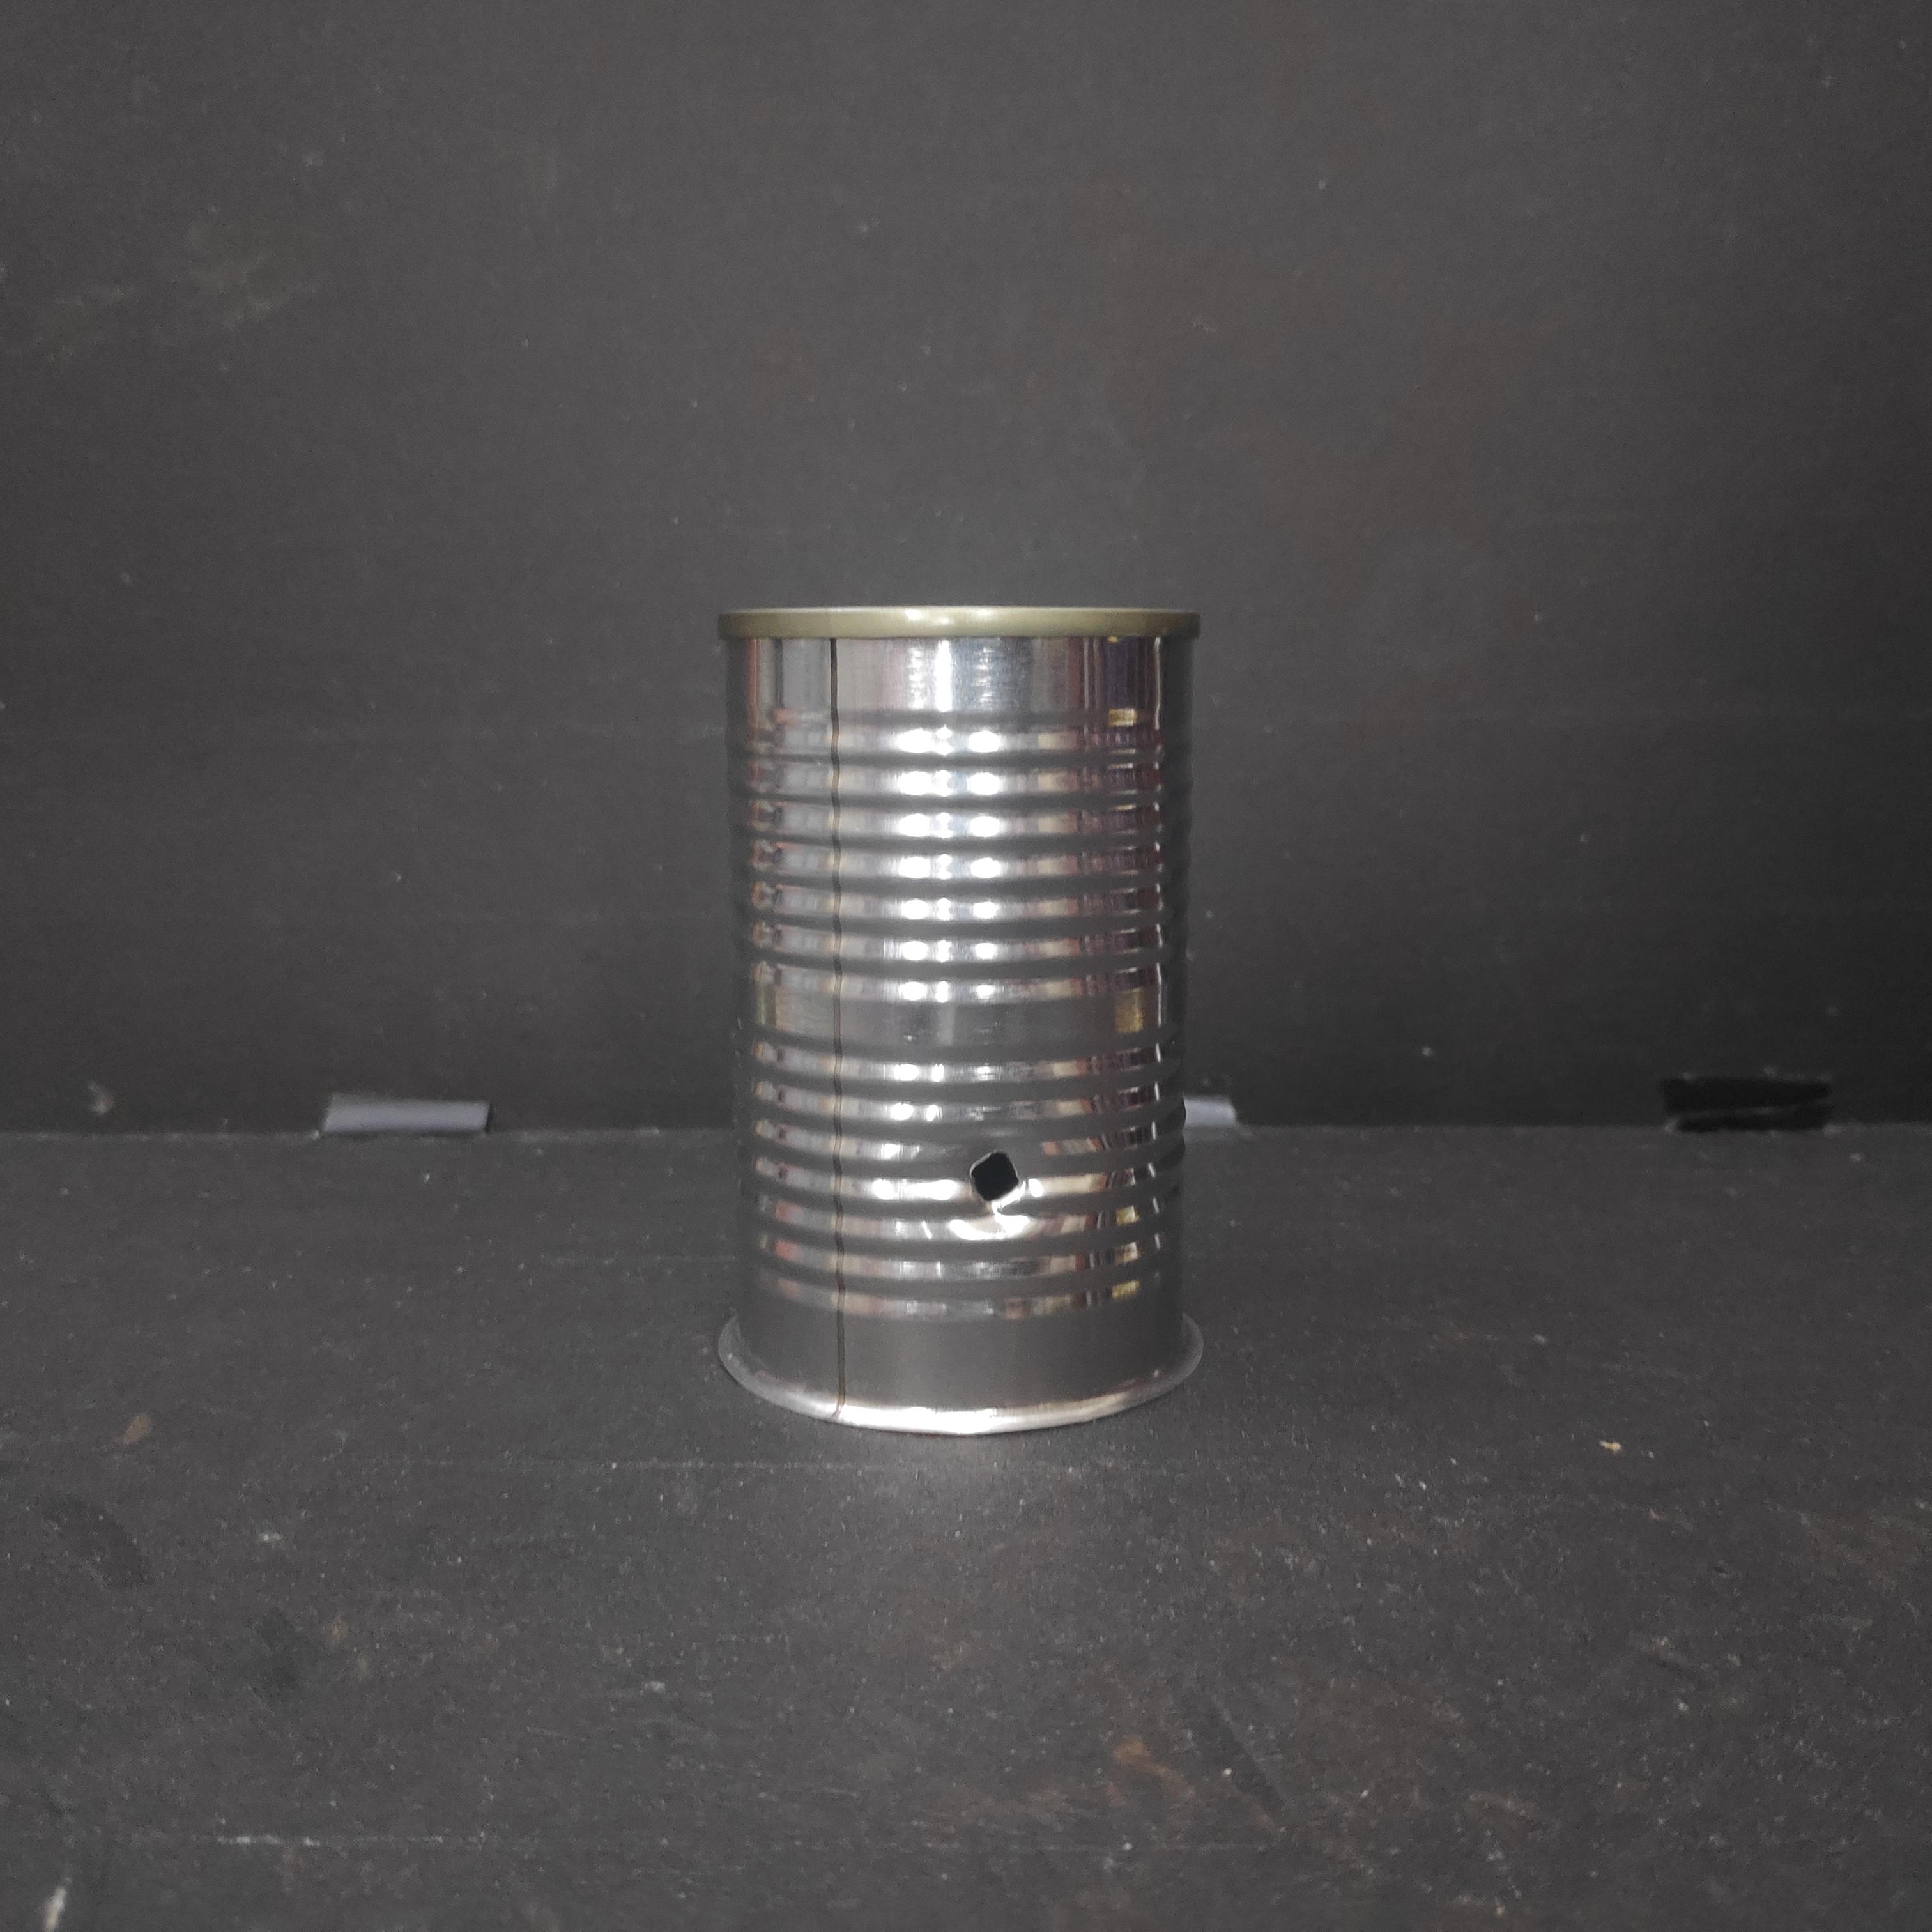Critical Defect: (708, 598, 1214, 1445)
